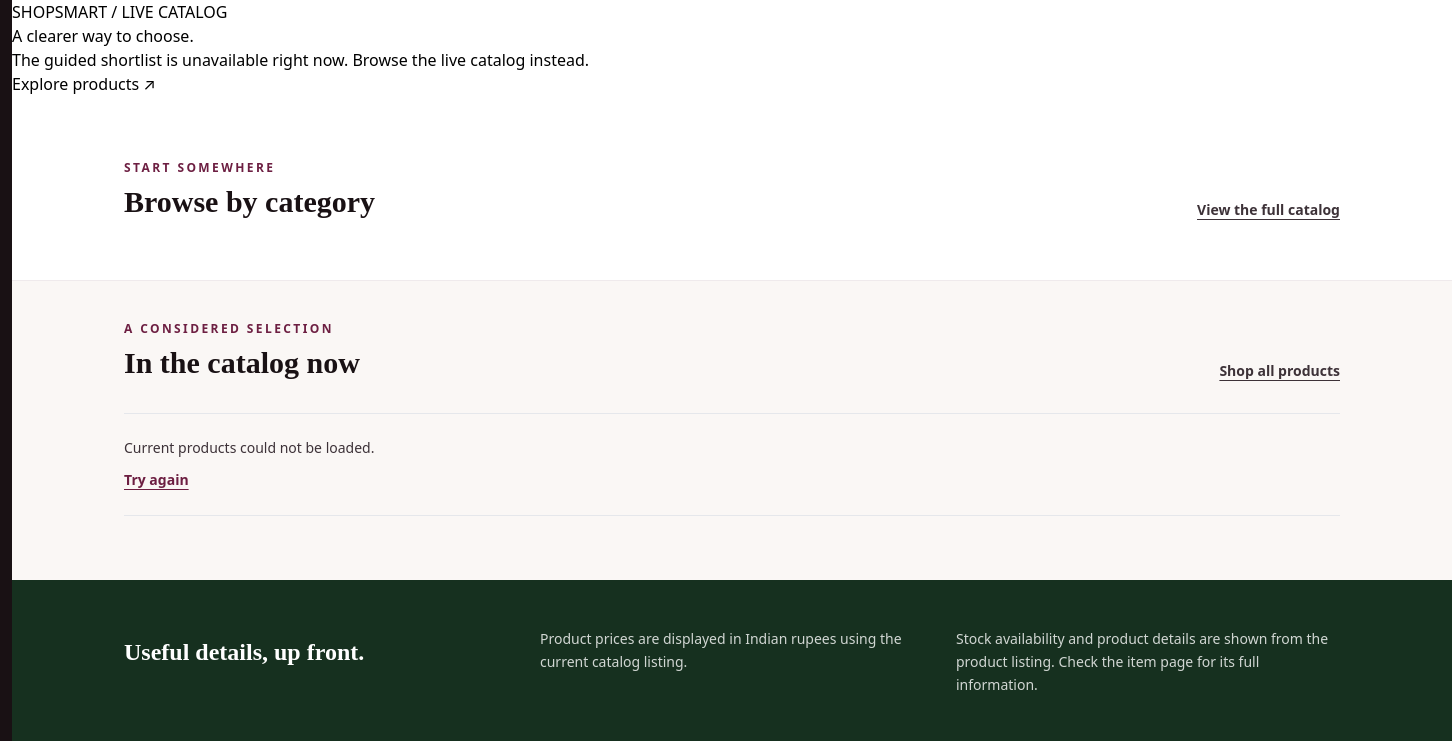
Test: homepage shopping experience › shows catalog errors with a working retry action
Expected: the message shows "Current products could not be loaded.", [124,438,374,457]
Click the button "Try again". click: [156, 480]
box: [124,470,189,490]
(page scrolled)
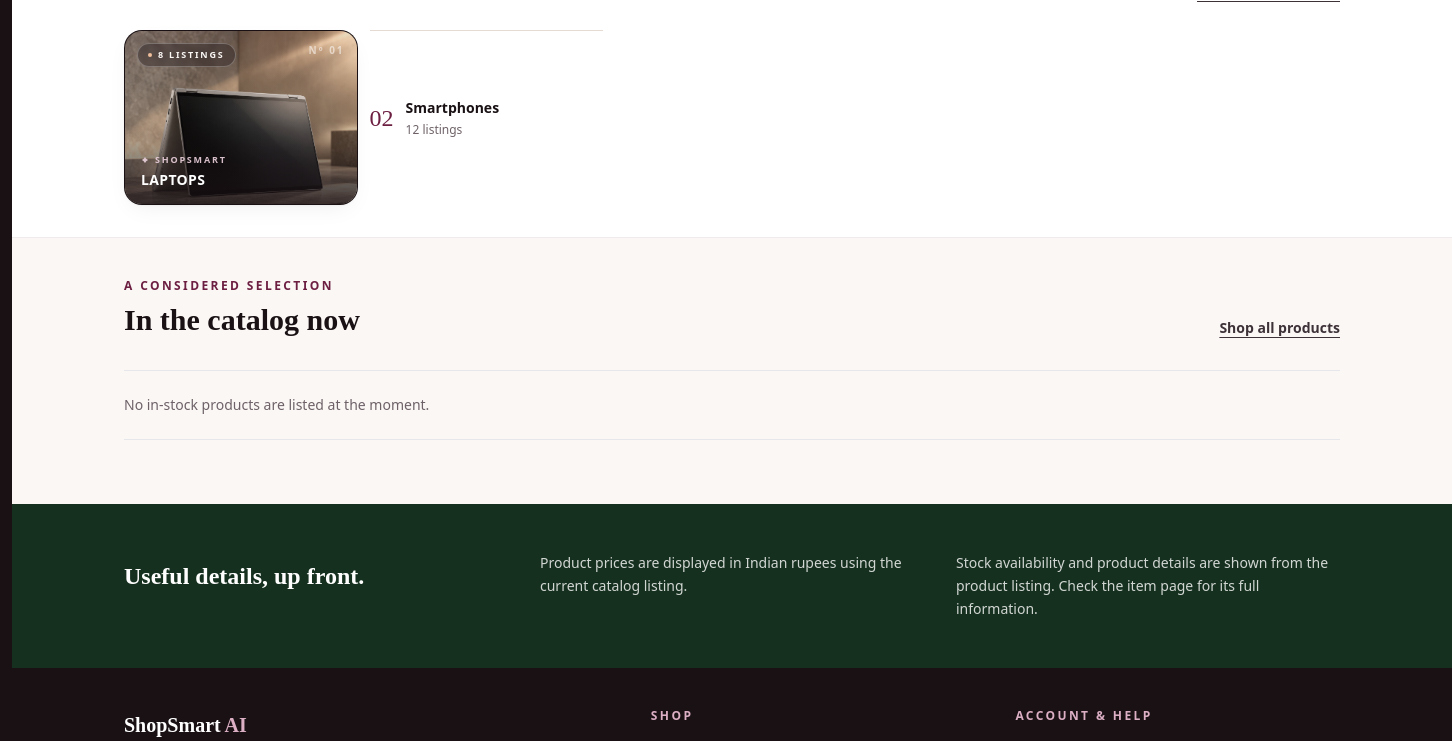
Expected: the text "No in-stock products are listed at the moment." is shown, [124,370,1340,440]
